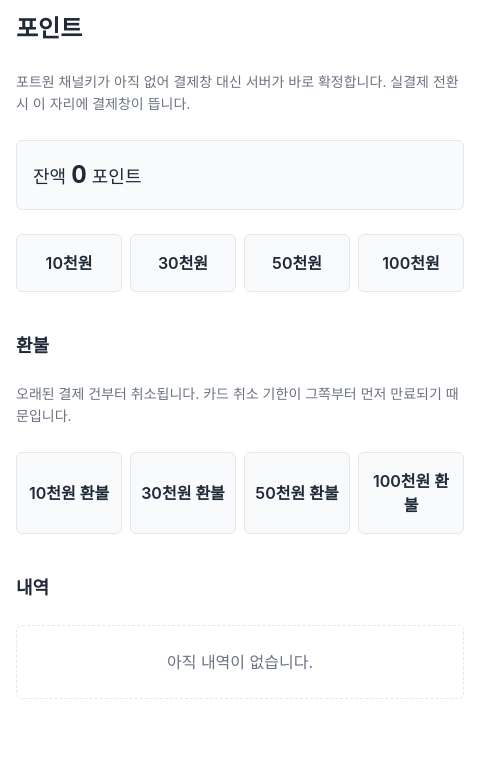
포인트 화면 — 충전 (AC1) › should show the server message when the amount did not match
Click the button "10천원" at (69, 263), box top-left (16, 234), bottom-right (122, 292)
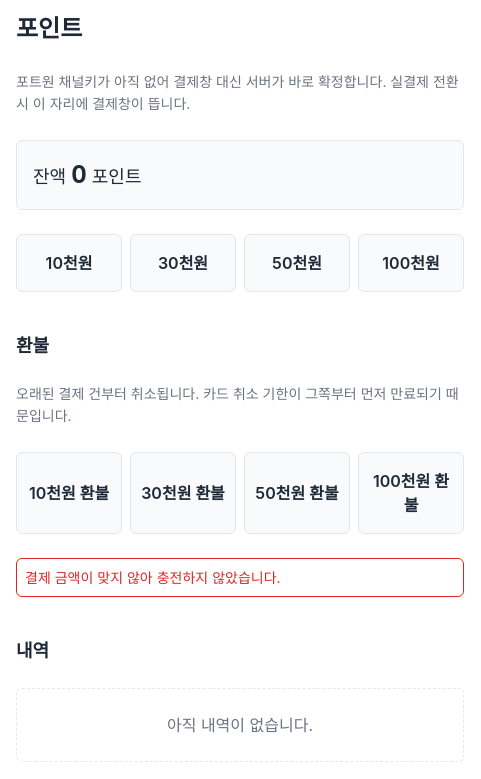
Check: the message reads "결제 금액이 맞지 않아 충전하지 않았습니다.", box top-left (25, 569), bottom-right (281, 586)
